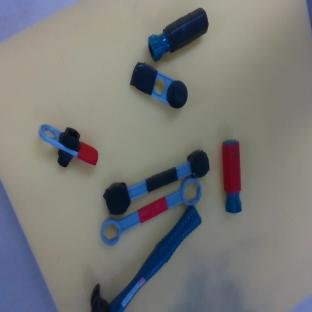part_1_bad: (127, 59, 194, 112)
part_1_good: (31, 110, 104, 182)
part_2_bad: (142, 5, 215, 64)
part_2_good: (222, 139, 243, 214)
part_3_bad: (100, 147, 215, 218)
part_3_good: (95, 174, 208, 249)
